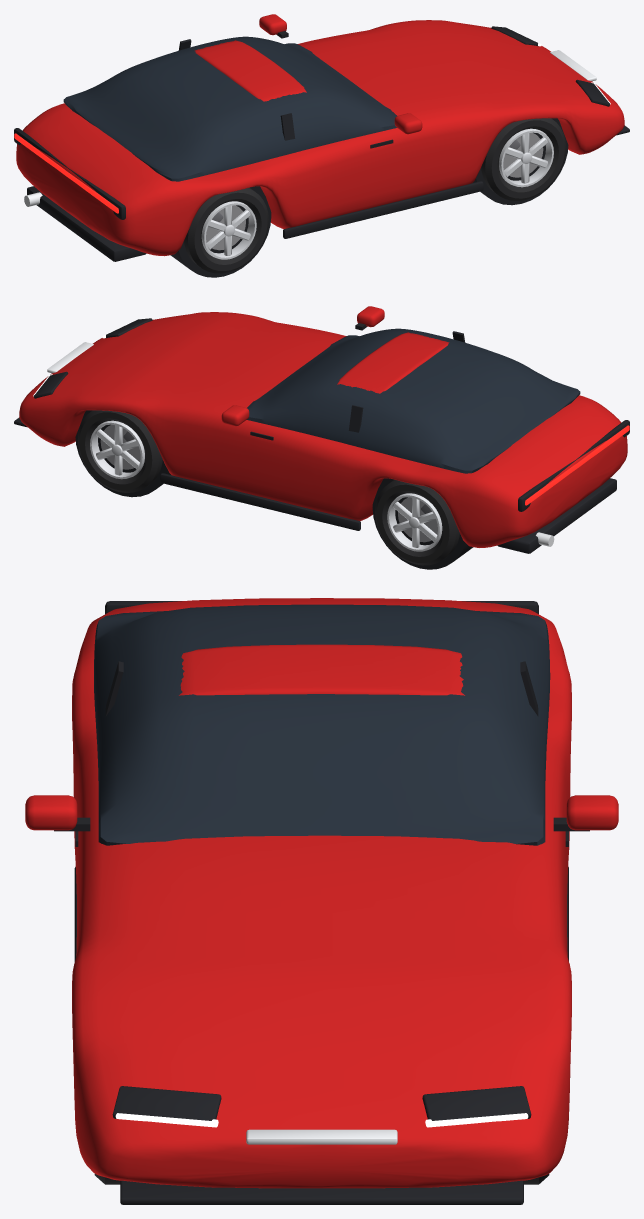
File: mayombe.glb
3 renders of one model, top to bottom at view 1: azimuth 30°, elevation 25°; view 2: azimuth 150°, elevation 25°; view 3: azimuth 270°, elevation 25°, orthographic. The views are drawn at different scales.
Visible parts, largest first — view 1: car_paint, car_glass, car_trim, wheel_RR, wheel_FR, car_lightR, car_chrome; view 2: car_paint, car_glass, car_trim, wheel_RL, wheel_FL, car_lightR, car_chrome; view 3: car_paint, car_glass, car_trim, car_chrome, car_lightF.
Boxes of the visible parts, <box> form: car_paint: <box>16,14,624,256</box>; car_glass: <box>63,36,396,181</box>; car_trim: <box>14,26,629,277</box>; wheel_RR: <box>184,187,268,273</box>; wheel_FR: <box>481,118,566,200</box>; car_lightR: <box>14,133,118,213</box>; car_chrome: <box>24,50,596,206</box>; car_paint: <box>19,306,627,547</box>; car_glass: <box>247,328,580,473</box>; car_trim: <box>14,318,629,569</box>; wheel_RL: <box>375,479,459,565</box>; wheel_FL: <box>77,410,162,492</box>; car_lightR: <box>525,425,629,505</box>; car_chrome: <box>47,342,554,546</box>; car_paint: <box>25,598,618,1188</box>; car_glass: <box>94,604,550,845</box>; car_trim: <box>54,601,589,1204</box>; car_chrome: <box>246,1129,397,1144</box>; car_lightF: <box>115,1113,528,1127</box>.
Bounding box in the file's own units: 4.62 × 1.31 × 2.28.
